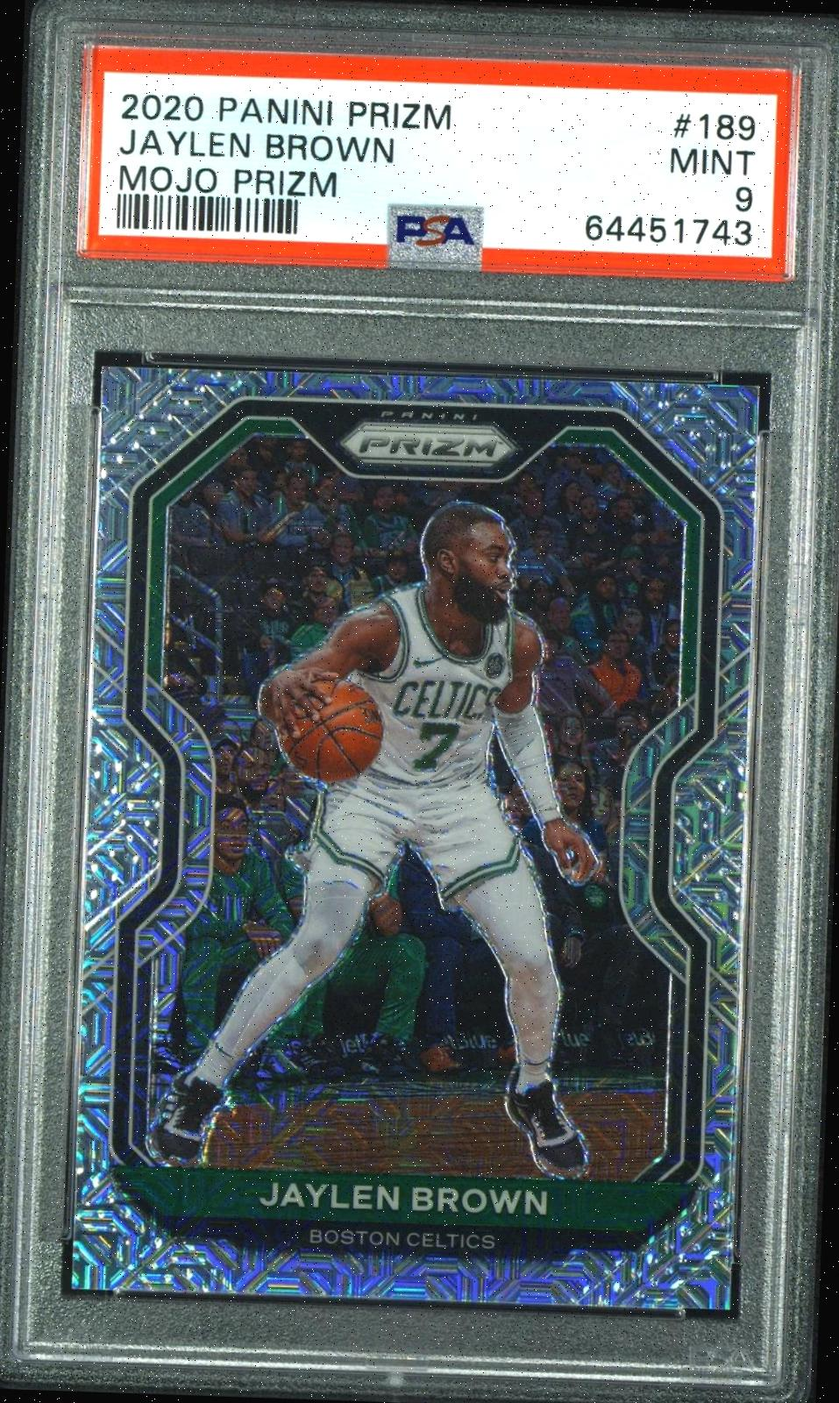card-2UtV: (70, 365, 760, 1311)
